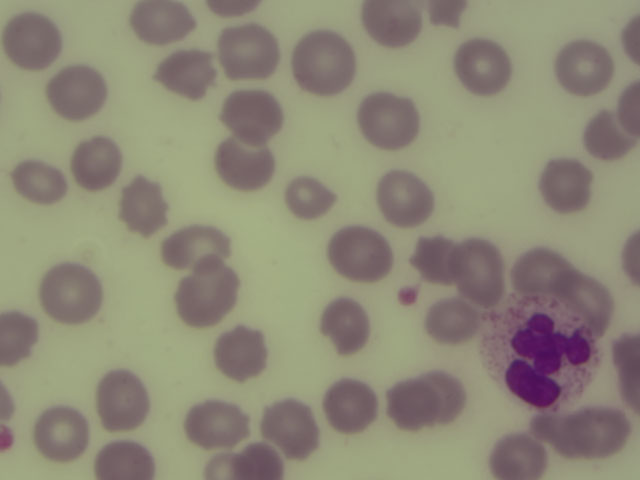Platelets: (392, 283, 424, 313), (1, 424, 20, 456)
RBC: (506, 244, 577, 292), (182, 399, 249, 446), (178, 267, 232, 325), (221, 88, 282, 139), (160, 226, 226, 273), (358, 1, 424, 47), (296, 33, 350, 88), (489, 431, 548, 480), (561, 410, 626, 454), (127, 1, 193, 42), (93, 439, 155, 480), (410, 233, 459, 284), (380, 173, 429, 224), (424, 298, 473, 349), (454, 240, 503, 291), (330, 226, 379, 277), (566, 275, 615, 326), (325, 380, 374, 431), (267, 402, 316, 453), (542, 158, 591, 209), (587, 106, 636, 157), (559, 41, 608, 92), (459, 40, 508, 91), (323, 298, 372, 349), (218, 330, 267, 381), (95, 377, 144, 428), (37, 406, 86, 457), (44, 266, 93, 317), (285, 174, 334, 225), (121, 182, 170, 233), (71, 137, 120, 188), (16, 157, 65, 208), (362, 93, 411, 144), (218, 135, 267, 186), (221, 25, 270, 76), (161, 48, 210, 99), (51, 66, 100, 117), (7, 15, 56, 66), (421, 369, 467, 420), (1, 306, 37, 370), (387, 378, 433, 426), (608, 330, 640, 398), (230, 441, 283, 480)
WBC: (489, 299, 594, 413)
